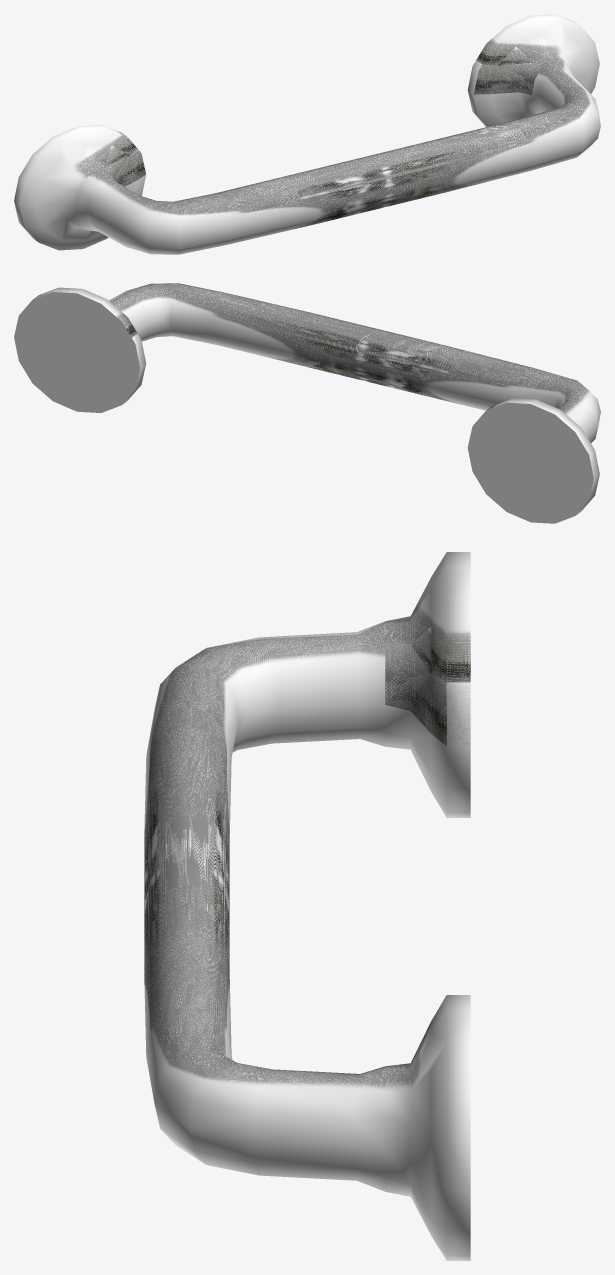
File: original-68.obj
3 views of the same model, one above another, from view 1: azimuth 30°, elevation 25°; view 2: azimuth 150°, elevation 25°; view 3: azimuth 270°, elevation 25° (orthographic). The views are drawn at different scales.
Parts seen in each view (by area): view 1: _7035_DF2/_7035_DF/mesh31/mesh31-geometry#mesh31-geometry; view 2: _7035_DF2/_7035_DF/mesh31/mesh31-geometry#mesh31-geometry; view 3: _7035_DF2/_7035_DF/mesh31/mesh31-geometry#mesh31-geometry.
Boxes of the visible parts, <box> form: _7035_DF2/_7035_DF/mesh31/mesh31-geometry#mesh31-geometry: <box>14,14,600,254</box>; _7035_DF2/_7035_DF/mesh31/mesh31-geometry#mesh31-geometry: <box>14,283,600,523</box>; _7035_DF2/_7035_DF/mesh31/mesh31-geometry#mesh31-geometry: <box>144,552,470,1260</box>.
Bounding box in the file's own units: 0.2239 × 0.0437 × 0.0546.
